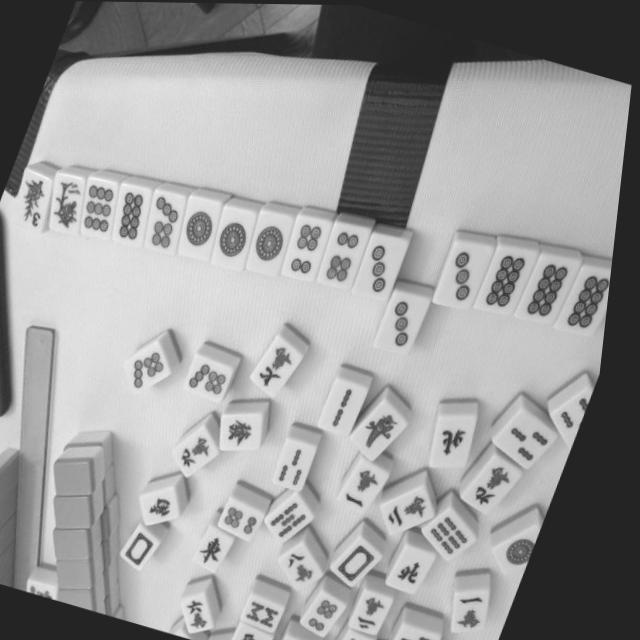bf3: (18, 167, 56, 233)
bs2: (53, 172, 90, 235)
hdg: (229, 412, 272, 448)
hdw: (341, 536, 394, 584), (131, 522, 173, 569)
hwe: (205, 524, 246, 571)
hwn: (437, 411, 486, 464), (398, 543, 449, 591)
hws: (150, 485, 192, 524)
hww: (246, 622, 286, 640)
sb1: (358, 397, 417, 459)
sb2: (325, 376, 377, 435)
sb3: (502, 406, 566, 467), (282, 437, 326, 489), (407, 622, 456, 640)
sb5: (275, 491, 326, 542)
sb6: (433, 507, 488, 558), (357, 630, 387, 640)
sb8: (254, 592, 298, 632)
sc1: (346, 455, 400, 512), (464, 586, 503, 631)
sc2: (391, 483, 445, 533), (362, 587, 406, 632)
sc6: (194, 593, 227, 630)
sc7: (258, 335, 309, 397)
sc8: (289, 541, 335, 588)
sc9: (470, 451, 533, 512), (182, 428, 226, 476)
sd1: (249, 208, 300, 276), (214, 203, 263, 270), (181, 194, 227, 260), (504, 520, 552, 573)
sd3: (438, 238, 500, 307), (357, 231, 414, 299), (379, 288, 438, 353)
sd6: (321, 219, 376, 287), (285, 212, 337, 280), (314, 590, 361, 635), (229, 496, 275, 540)
sd7: (149, 188, 191, 253), (132, 338, 178, 392), (192, 352, 241, 400)
sd8: (520, 251, 586, 321), (479, 242, 544, 311), (560, 261, 617, 333), (116, 181, 157, 246)
sd9: (84, 176, 123, 240)
